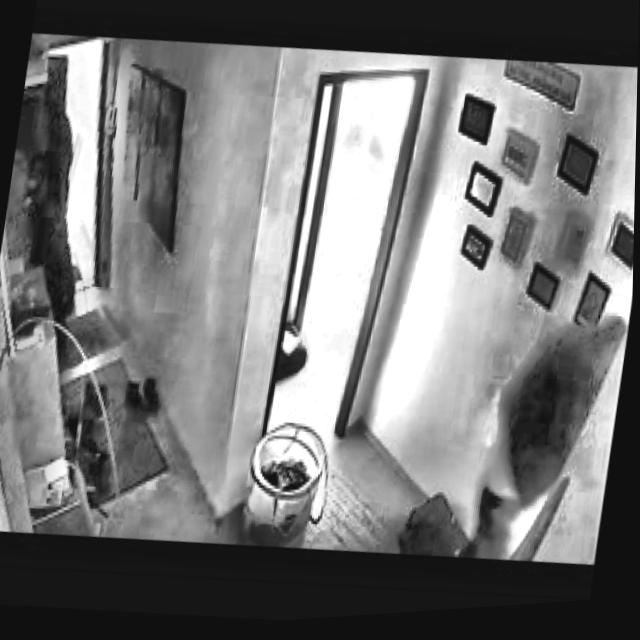burglary: (464, 298, 628, 578)
